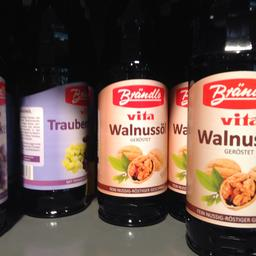oil: (186, 0, 255, 250), (96, 0, 169, 225), (13, 0, 88, 217)
